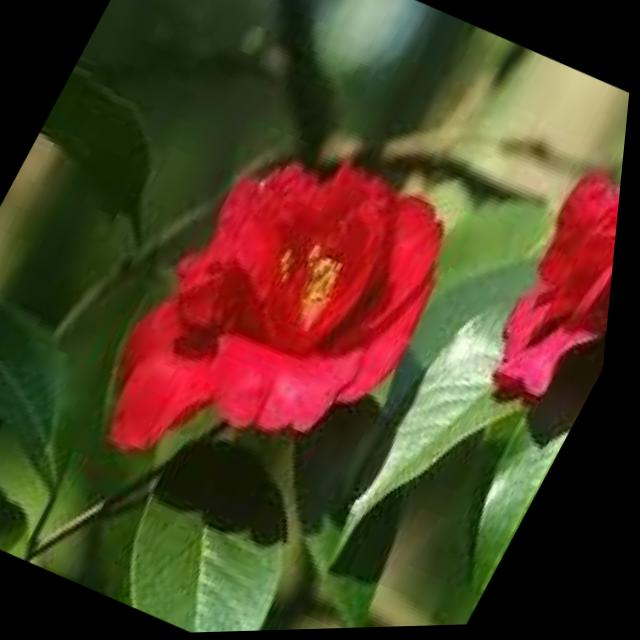Flower: (106, 122, 481, 517)
